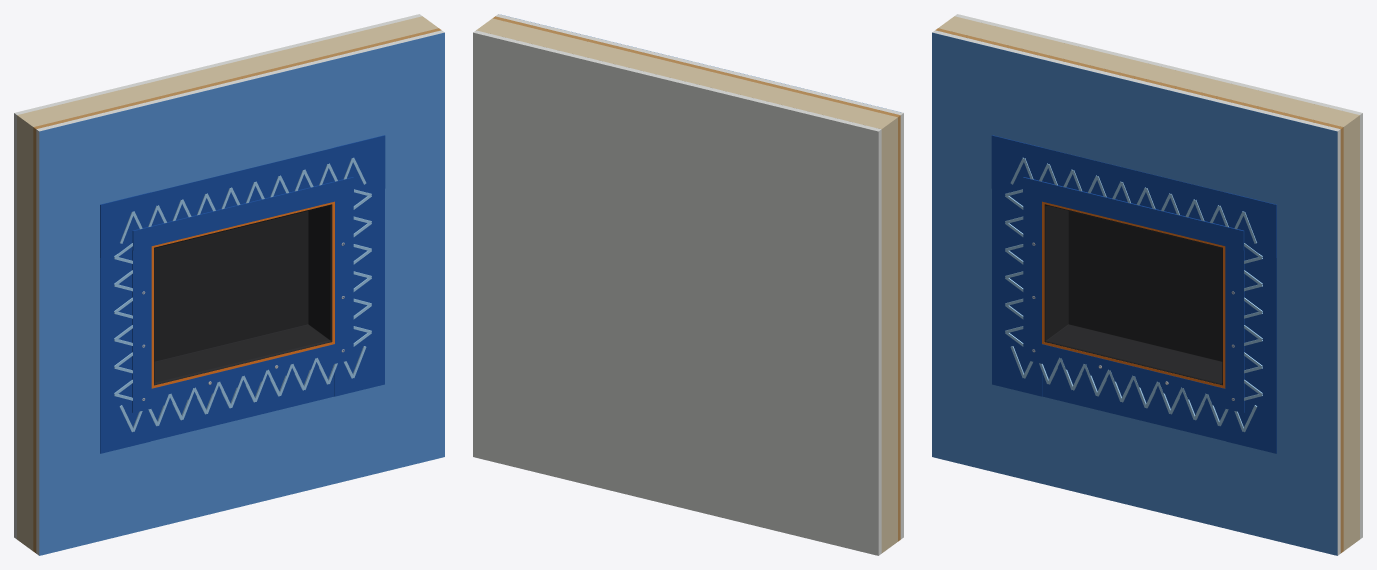
3 renders of one model, left to right at view 1: azimuth 30°, elevation 25°; view 2: azimuth 150°, elevation 25°; view 3: azimuth 330°, elevation 25°, orthographic.
Parts seen in each view (by area): view 1: b3, b49, b11, b7, b9, b5, b36, b30, b42, b46, b44, b13 (+4 smaller); view 2: b44, b36, b30, b42, b46; view 3: b3, b49, b11, b9, b7, b5, b36, b32, b42, b46, b44, b13 (+4 smaller).
Part boxes in pixels (box(x1,y1,x2,y2)): b3: box(39, 32, 444, 555); b49: box(154, 204, 332, 385); b11: box(100, 135, 385, 257); b7: box(100, 192, 151, 453); b9: box(334, 135, 384, 396); b5: box(151, 344, 334, 441); b36: box(17, 16, 438, 145); b30: box(17, 134, 33, 531); b42: box(36, 30, 444, 555); b46: box(33, 28, 441, 553); b44: box(14, 14, 422, 539); b13: box(119, 346, 366, 432); b44: box(473, 30, 881, 555); b36: box(476, 18, 897, 147); b30: box(881, 136, 897, 534); b42: box(495, 14, 903, 539); b46: box(493, 16, 900, 541); b3: box(932, 32, 1337, 555); b49: box(1044, 204, 1222, 385); b11: box(991, 135, 1276, 257); b9: box(1225, 192, 1276, 453); b7: box(992, 135, 1042, 396); b5: box(1042, 344, 1225, 441); b36: box(938, 16, 1359, 145); b32: box(1343, 134, 1359, 531); b42: box(932, 30, 1340, 555); b46: box(935, 28, 1343, 553); b44: box(954, 14, 1362, 539); b13: box(1010, 346, 1257, 432).
Bounding box in the file's own units: 1000 × 1000 × 115.
